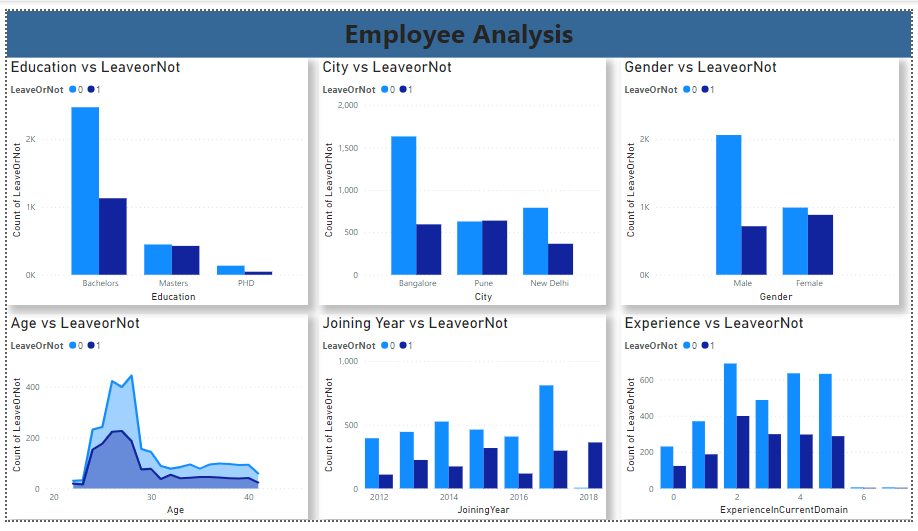

The dashboard page shown, as its layout file describes it:
{"tool":"powerbi","page":{"name":"Page 1","canvas":[1280,720],"ordinal":0},"visuals":[{"type":"textbox","box":[0,0,1280,66],"z":0},{"type":"clusteredColumnChart","title":"Education vs LeaveorNot","fields":{"Category":["Employee.Education"],"Y":["CountNonNull(Employee.LeaveOrNot)"],"Series":["Employee.LeaveOrNot"]},"box":[0,66,425.6,349.7],"z":1000},{"type":"areaChart","title":"Age vs LeaveorNot","fields":{"Category":["Employee.Age"],"Y":["CountNonNull(Employee.LeaveOrNot)"],"Series":["Employee.LeaveOrNot"]},"box":[0,428.9,425.6,290.3],"z":2000},{"type":"clusteredColumnChart","title":"City vs LeaveorNot","fields":{"Y":["CountNonNull(Employee.LeaveOrNot)"],"Series":["Employee.LeaveOrNot"],"Category":["Employee.City"]},"box":[442.1,66,405.8,349.7],"z":3000},{"type":"clusteredColumnChart","title":"Gender vs LeaveorNot","fields":{"Y":["CountNonNull(Employee.LeaveOrNot)"],"Series":["Employee.LeaveOrNot"],"Category":["Employee.Gender"]},"box":[869.3,66,394.2,349.7],"z":4000},{"type":"clusteredColumnChart","title":"Joining Year vs LeaveorNot","fields":{"Y":["CountNonNull(Employee.LeaveOrNot)"],"Series":["Employee.LeaveOrNot"],"Category":["Employee.JoiningYear"]},"box":[442.1,428.9,405.8,290.3],"z":5000},{"type":"clusteredColumnChart","title":"Experience vs LeaveorNot","fields":{"Y":["CountNonNull(Employee.LeaveOrNot)"],"Series":["Employee.LeaveOrNot"],"Category":["Employee.ExperienceInCurrentDomain"]},"box":[869.3,428.9,410.7,290.3],"z":6000}]}

Visuals, with their boxes in screenshot pixels (x1, y1, x2, y2), scaled from the page's 1280x720 canvas onto the 918x531 screenshot:
textbox: x1=0 y1=0 x2=917 y2=49
"Education vs LeaveorNot" clusteredColumnChart: x1=0 y1=49 x2=305 y2=307
"Age vs LeaveorNot" areaChart: x1=0 y1=316 x2=305 y2=530
"City vs LeaveorNot" clusteredColumnChart: x1=317 y1=49 x2=608 y2=307
"Gender vs LeaveorNot" clusteredColumnChart: x1=623 y1=49 x2=906 y2=307
"Joining Year vs LeaveorNot" clusteredColumnChart: x1=317 y1=316 x2=608 y2=530
"Experience vs LeaveorNot" clusteredColumnChart: x1=623 y1=316 x2=917 y2=530
